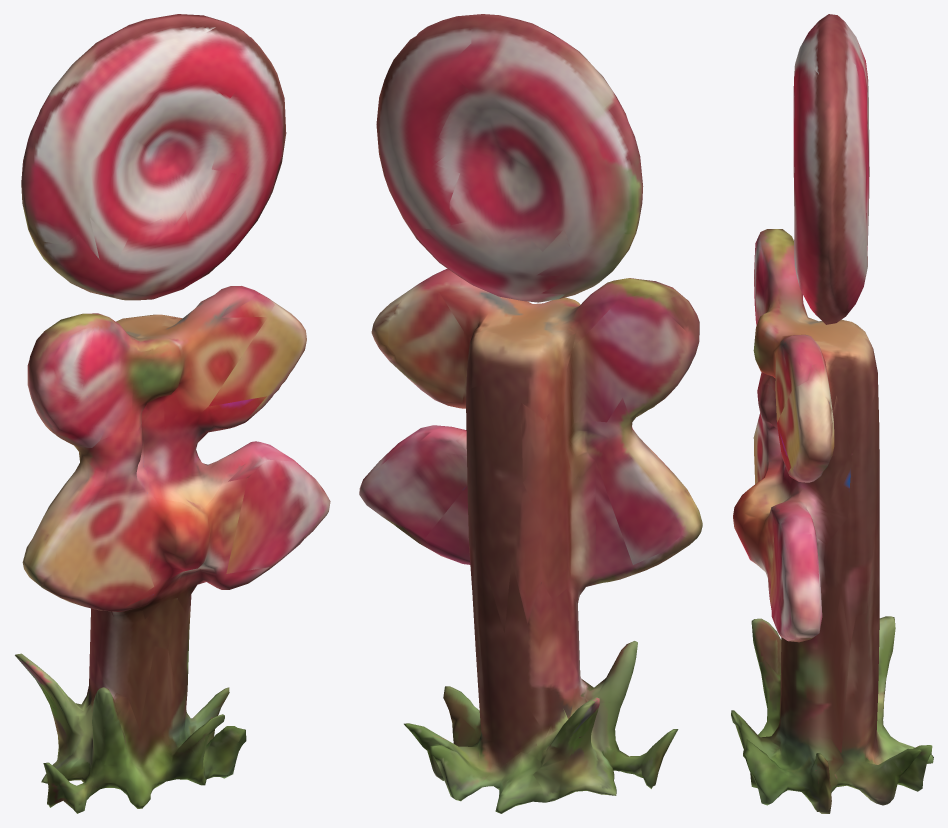
File: CF_Signpost.fbx
The picture shows the model from 3 angles, left to right: view 1: azimuth 30°, elevation 25°; view 2: azimuth 150°, elevation 25°; view 3: azimuth 270°, elevation 25°; orthographic projection.
Visible parts, largest first — view 1: CF_Signpost; view 2: CF_Signpost; view 3: CF_Signpost.
Part boxes in pixels (x1=…): CF_Signpost: x1=15, y1=14, x2=330, y2=813; CF_Signpost: x1=359, y1=14, x2=702, y2=813; CF_Signpost: x1=731, y1=14, x2=933, y2=813.
Size of the model in its own units: 1.56 by 3.5 by 0.8501.
